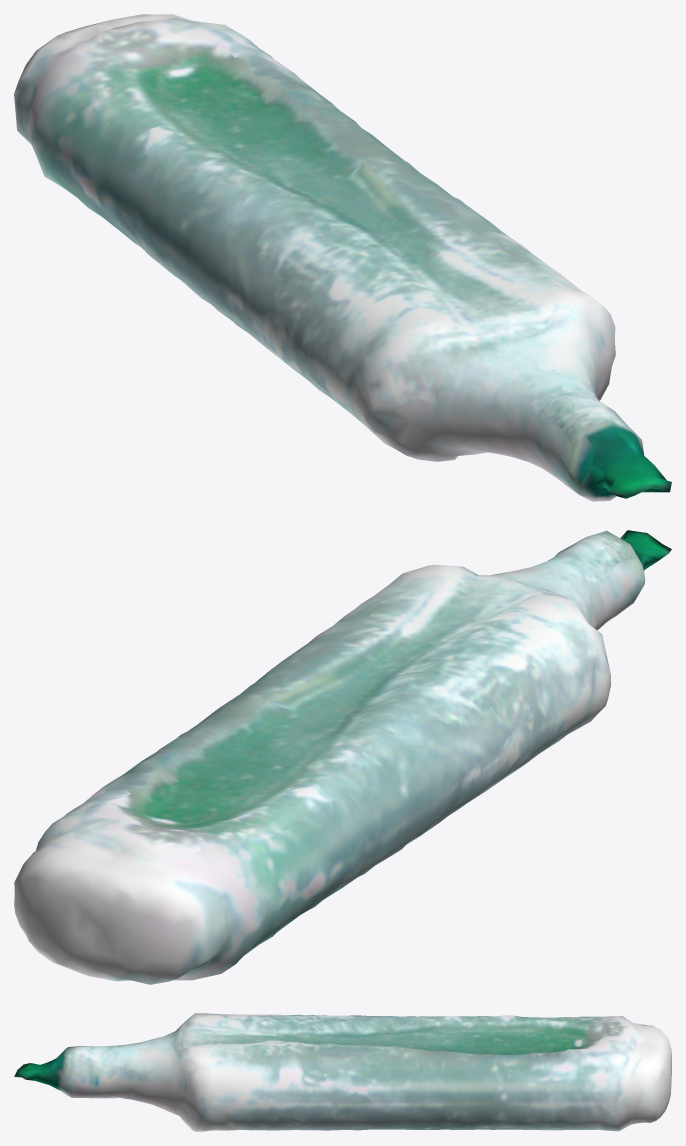
The model's file is scan_align.obj.
3 views of the same model, one above another, from view 1: azimuth 30°, elevation 25°; view 2: azimuth 150°, elevation 25°; view 3: azimuth 270°, elevation 25° (orthographic). The views are drawn at different scales.
Bounding box in the file's own units: 0.0258 × 0.014 × 0.1015.
Materials: 1 (1 with a texture image).
